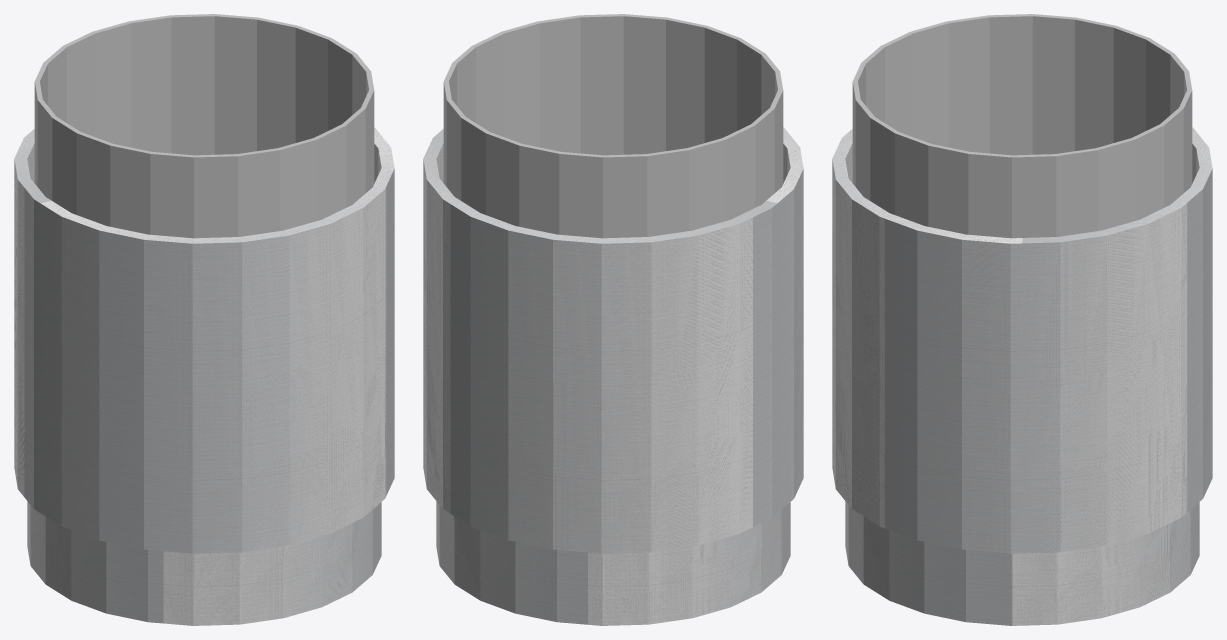
The picture shows the model from 3 angles, left to right: view 1: azimuth 30°, elevation 25°; view 2: azimuth 150°, elevation 25°; view 3: azimuth 270°, elevation 25°; orthographic projection.
Visible parts, largest first — view 1: mesh1_mesh1-geometry; view 2: mesh1_mesh1-geometry; view 3: mesh1_mesh1-geometry.
Boxes of the visible parts, x1,y1,x2,y2 form: mesh1_mesh1-geometry: [14, 14, 394, 625]; mesh1_mesh1-geometry: [423, 14, 803, 625]; mesh1_mesh1-geometry: [832, 14, 1212, 625].
Bounding box in the file's own units: 0.5114 × 0.6906 × 0.5114.
